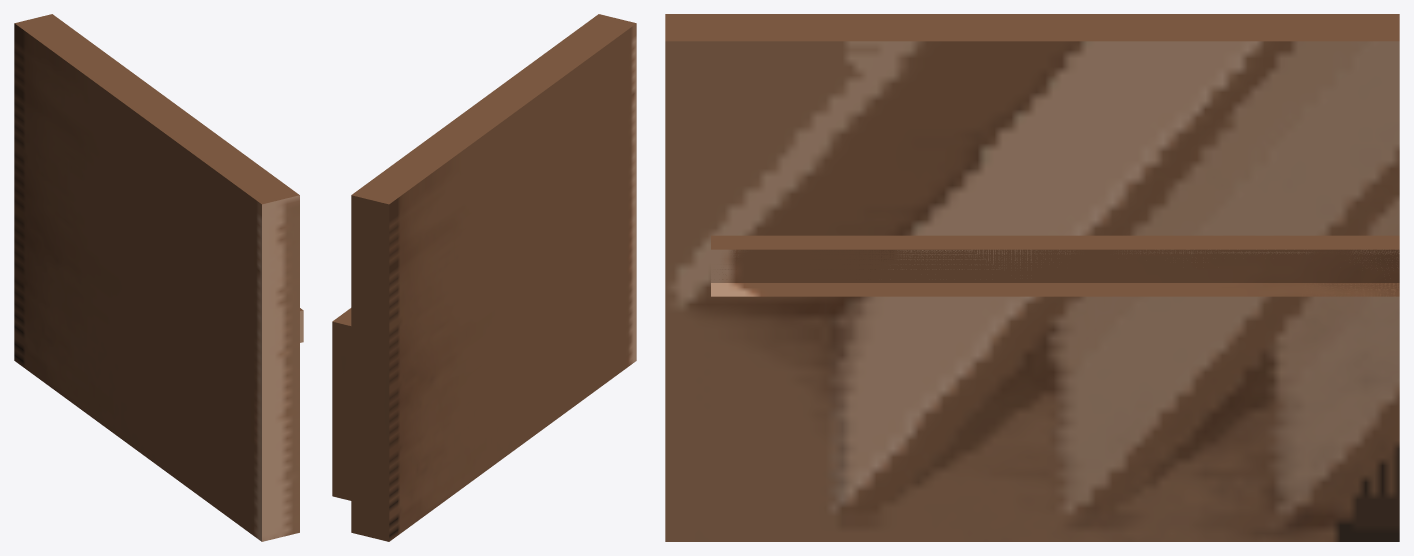
Rendered from pz_g022_location_shop_generic_01_long_shelves_part3.obj.
3 views of the same model, side by side, from view 1: azimuth 30°, elevation 25°; view 2: azimuth 150°, elevation 25°; view 3: azimuth 270°, elevation 25° (orthographic). The views are drawn at different scales.
Parts seen in each view (by area): view 1: right_end_right, right_end_top, right_end_front; view 2: right_end_right, right_end_bottom, right_end_front, open_shelf_0_bottom, rear_panel_bottom; view 3: right_end_left, rear_panel_right, right_end_front, rear_panel_front, rear_panel_rear.
Boxes of the visible parts, left/top/right/bottom form: right_end_right: left=14, top=23, right=261, bottom=541; right_end_top: left=262, top=195, right=299, bottom=541; right_end_front: left=14, top=14, right=299, bottom=204; right_end_right: left=389, top=23, right=636, bottom=541; right_end_bottom: left=351, top=195, right=389, bottom=541; right_end_front: left=351, top=14, right=636, bottom=204; open_shelf_0_bottom: left=332, top=353, right=351, bottom=500; rear_panel_bottom: left=332, top=321, right=351, bottom=357; right_end_left: left=665, top=41, right=1399, bottom=541; rear_panel_right: left=711, top=249, right=1399, bottom=282; right_end_front: left=665, top=14, right=1399, bottom=41; rear_panel_front: left=711, top=235, right=1399, bottom=249; rear_panel_rear: left=711, top=283, right=1399, bottom=296.
Bounding box in the file's own units: 0.15 × 0.85 × 1.13.
Materials: 1 (1 with a texture image).
